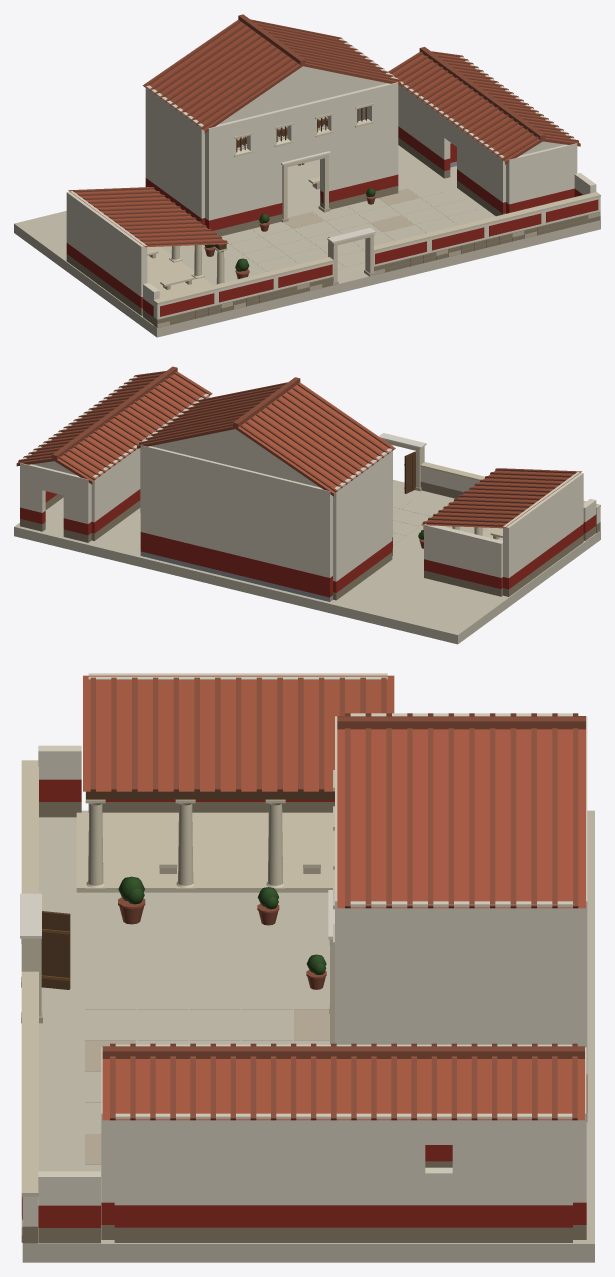
Rendered from rome_domus_o_library.glb.
3 renders of one model, top to bottom at view 1: azimuth 30°, elevation 25°; view 2: azimuth 150°, elevation 25°; view 3: azimuth 270°, elevation 25°, orthographic. The views are drawn at different scales.
Visible parts, largest first — view 1: rome_domus_o_library; view 2: rome_domus_o_library; view 3: rome_domus_o_library.
Part boxes in pixels (x1,y1,x2,y2): rome_domus_o_library: (14, 14, 600, 337); rome_domus_o_library: (14, 366, 600, 644); rome_domus_o_library: (20, 673, 594, 1262).
Size of the model in its own units: 31.95 by 11.33 by 17.91.
